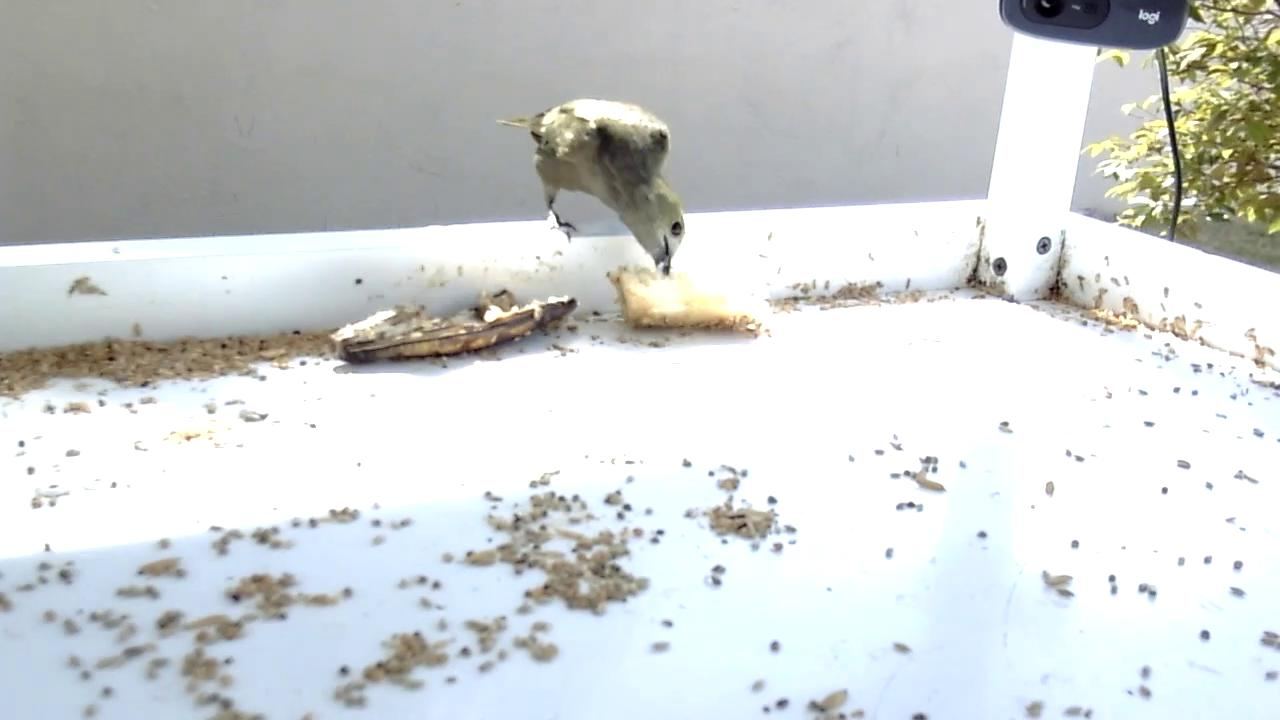sanhaco_do_coqueiro: (495, 98, 687, 279)
